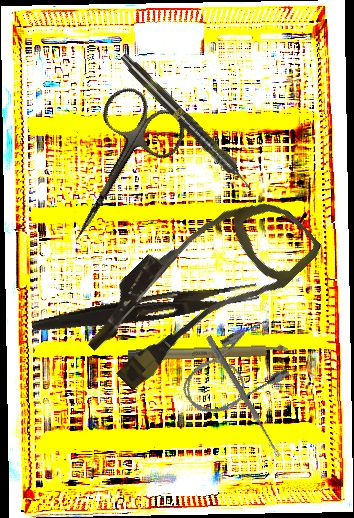Cannula: (72, 163, 325, 413), (169, 314, 298, 428)
Dressing Forceps: (30, 274, 260, 344)
Handpiece: (116, 50, 258, 195)
Iris Scissors: (38, 80, 194, 261)
Scalpel Handle: (127, 344, 289, 362)
Surgical Spoon: (204, 335, 283, 458)
